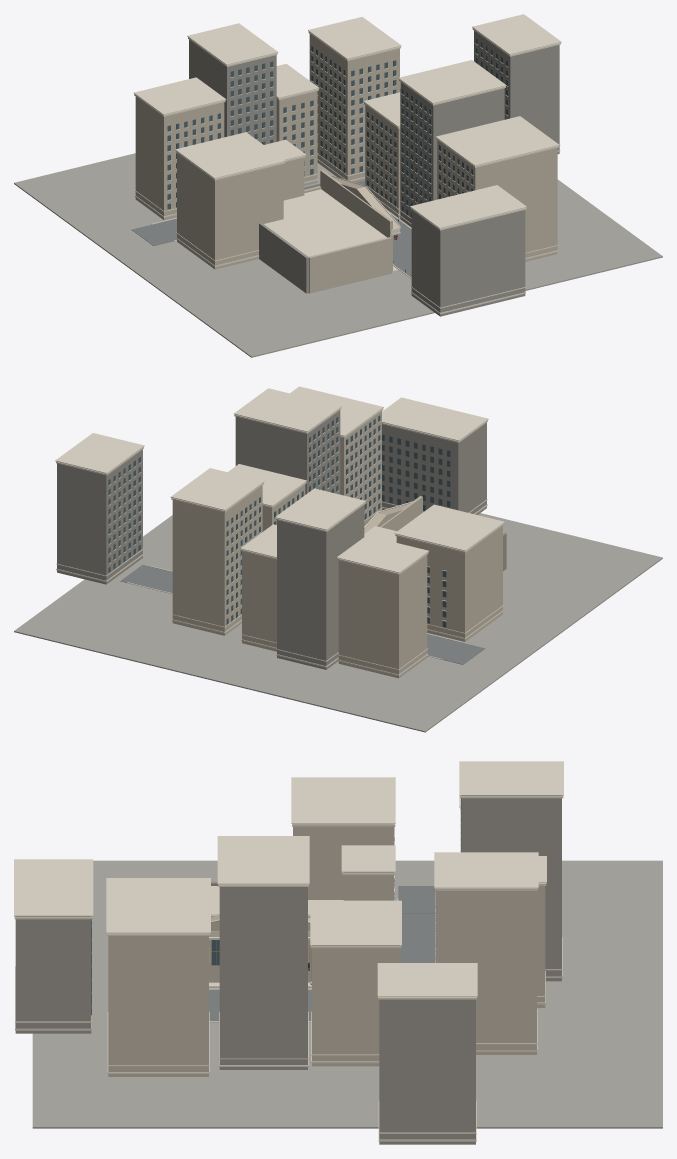
The model's file is wall-street-route.glb.
3 renders of one model, top to bottom at view 1: azimuth 30°, elevation 25°; view 2: azimuth 150°, elevation 25°; view 3: azimuth 270°, elevation 25°, orthographic. The views are drawn at different scales.
Parts seen in each view (by area): view 1: Static | Limestone | warm cut stone, Static | Limestone | lit trim, Static | Paving | warm limestone, Static | Limestone | weathered base, Static | Windows | smoky blue recess, Static | Street | blue grey granite; view 2: Static | Paving | warm limestone, Static | Limestone | warm cut stone, Static | Limestone | weathered base, Static | Limestone | lit trim, Static | Windows | smoky blue recess, Static | Street | blue grey granite; view 3: Static | Paving | warm limestone, Static | Limestone | weathered base, Static | Limestone | lit trim, Static | Limestone | warm cut stone, Static | Street | blue grey granite.
Part boxes in pixels (left/top/right/bottom): Static | Limestone | warm cut stone: left=135, top=34, right=557, bottom=293; Static | Limestone | lit trim: left=134, top=14, right=561, bottom=314; Static | Paving | warm limestone: left=14, top=89, right=662, bottom=357; Static | Limestone | weathered base: left=189, top=31, right=559, bottom=316; Static | Windows | smoky blue recess: left=167, top=38, right=508, bottom=217; Static | Street | blue grey granite: left=131, top=180, right=411, bottom=277; Static | Paving | warm limestone: left=14, top=513, right=662, bottom=732; Static | Limestone | warm cut stone: left=172, top=411, right=504, bottom=678; Static | Limestone | weathered base: left=57, top=410, right=506, bottom=669; Static | Limestone | lit trim: left=55, top=386, right=504, bottom=675; Static | Windows | smoky blue recess: left=108, top=415, right=450, bottom=627; Static | Street | blue grey granite: left=120, top=564, right=485, bottom=664; Static | Paving | warm limestone: left=32, top=860, right=662, bottom=1128; Static | Limestone | weathered base: left=15, top=795, right=561, bottom=1144; Static | Limestone | lit trim: left=14, top=761, right=563, bottom=1141; Static | Limestone | warm cut stone: left=108, top=824, right=545, bottom=1076; Static | Street | blue grey granite: left=209, top=886, right=435, bottom=1021.
Bounding box in the file's own units: 160 × 49.57 × 154.
